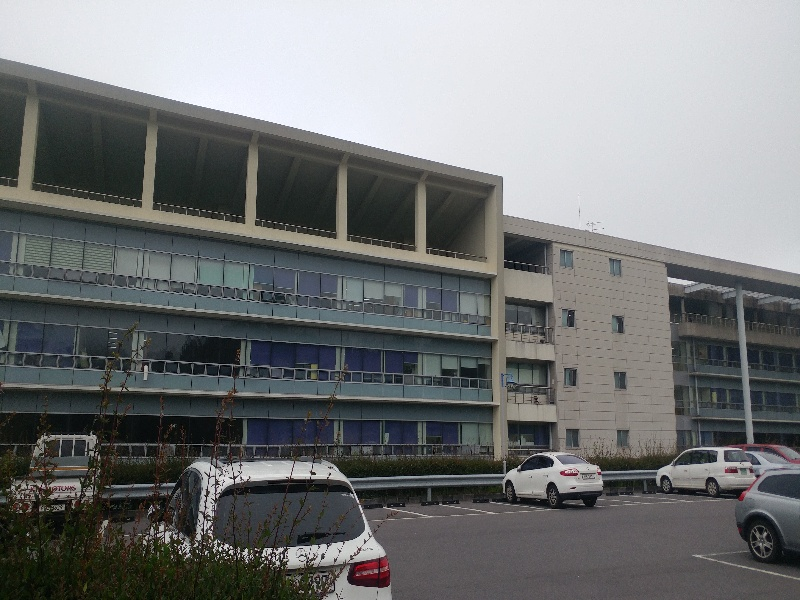Engineering College Building 4: (13, 88, 796, 428), (38, 232, 767, 424)
